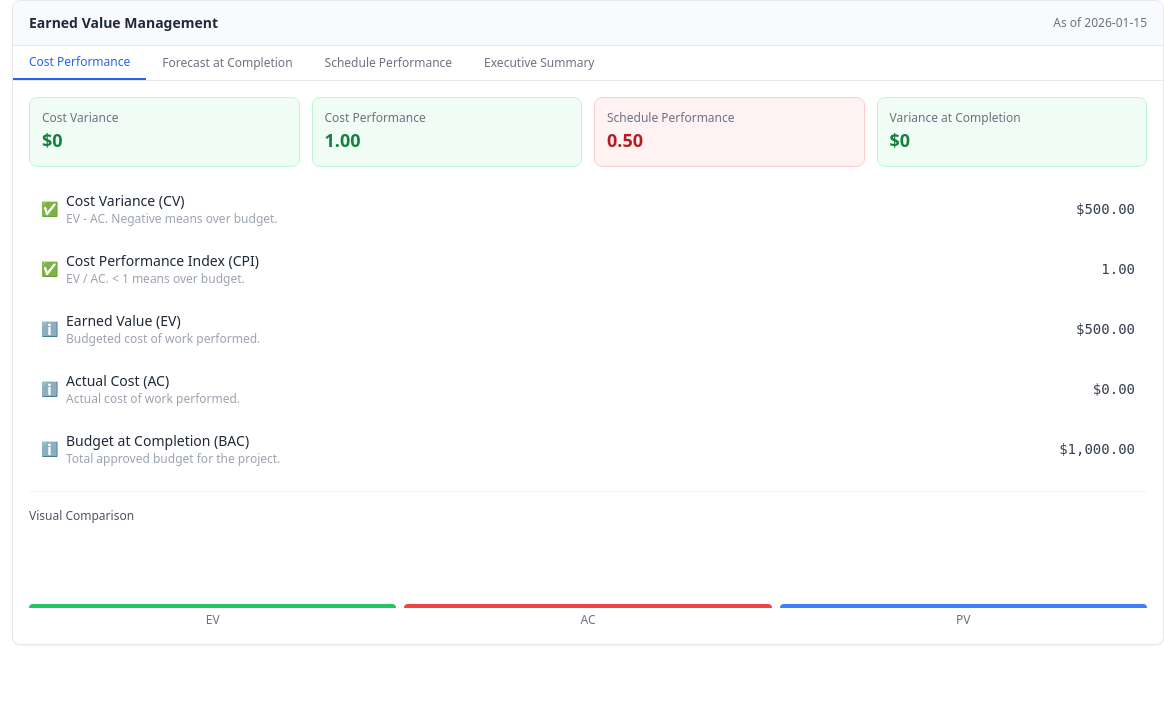
it: EvmReport › switches between report tabs
Check: the text "EV - AC. Negative means over budget." is shown, box [66, 211, 278, 227]
// Click Forecast tab
Step 1. Click the button "Forecast at Completion" → (227, 63), box [146, 46, 309, 80]
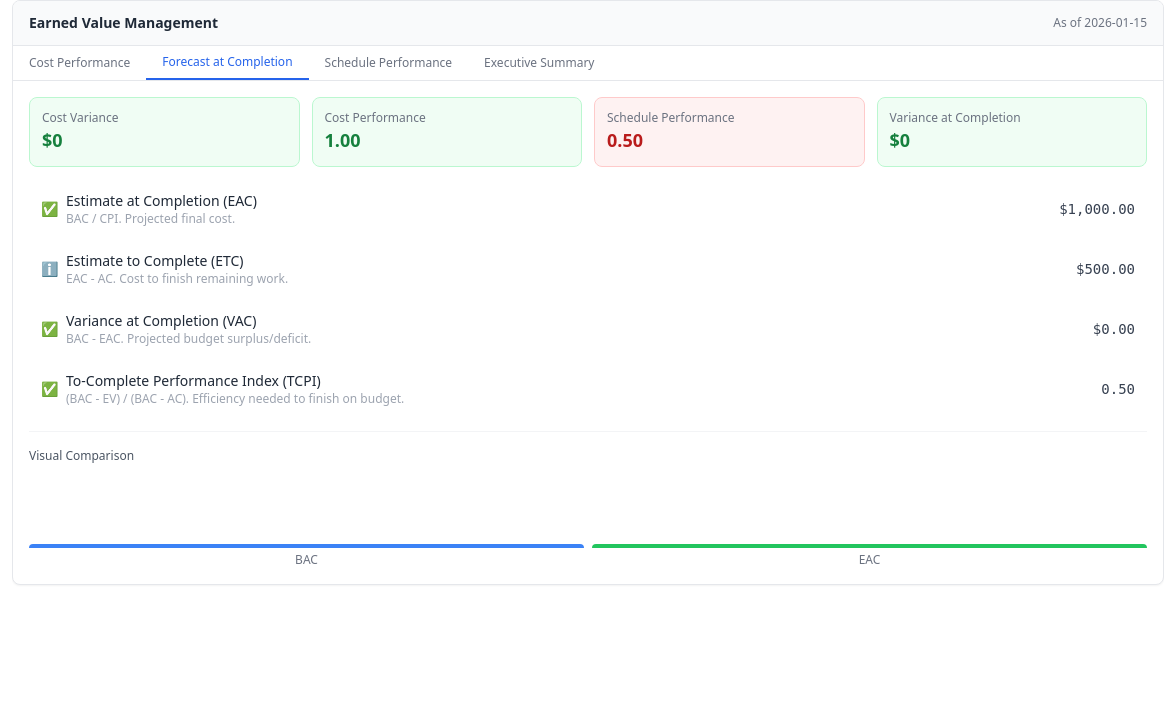
Check: the text "BAC / CPI. Projected final cost." is shown, box [66, 211, 257, 227]
